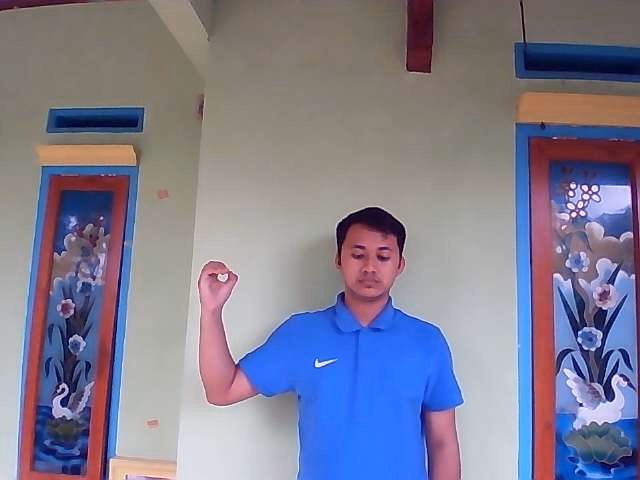O: (195, 259, 239, 310)
